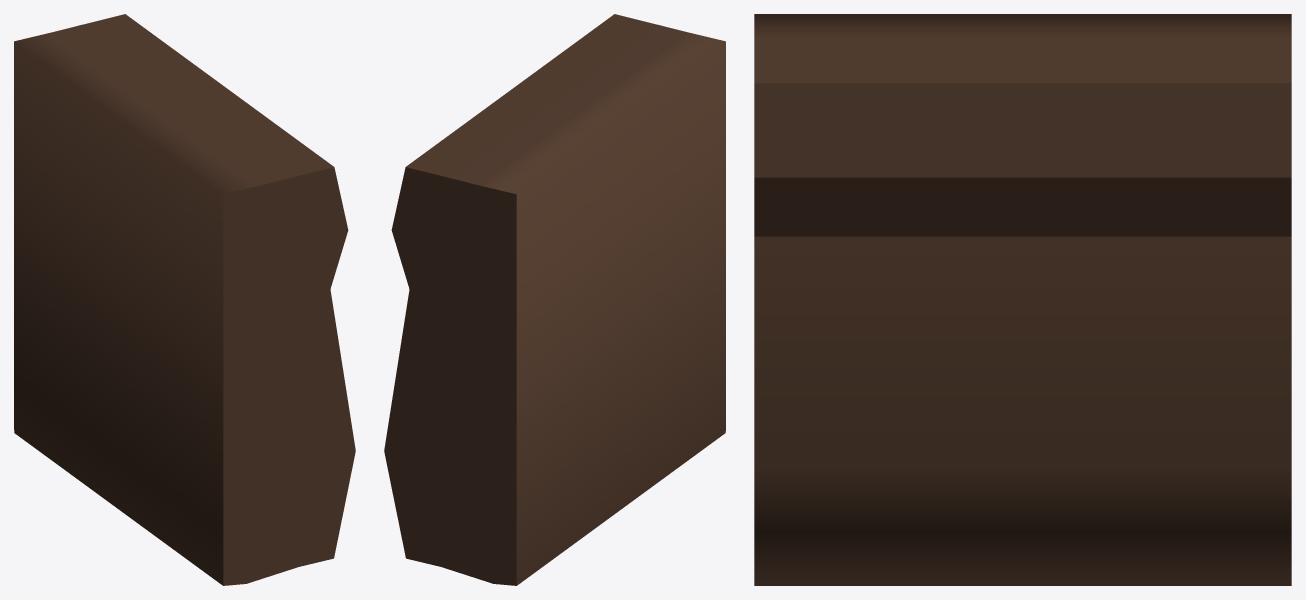
File: intro_prop(wall_mountain_L)_01.FBX
3 renders of one model, left to right at view 1: azimuth 30°, elevation 25°; view 2: azimuth 150°, elevation 25°; view 3: azimuth 270°, elevation 25°, orthographic. The views are drawn at different scales.
Visible parts, largest first — view 1: wall_mountain_L001; view 2: wall_mountain_L001; view 3: wall_mountain_L001.
Part boxes in pixels (left/top/right/bottom): wall_mountain_L001: left=14, top=14, right=355, bottom=585; wall_mountain_L001: left=384, top=14, right=725, bottom=585; wall_mountain_L001: left=754, top=14, right=1291, bottom=585.
Size of what is drawn, in the model's own units: 63.73 by 182 by 174.
